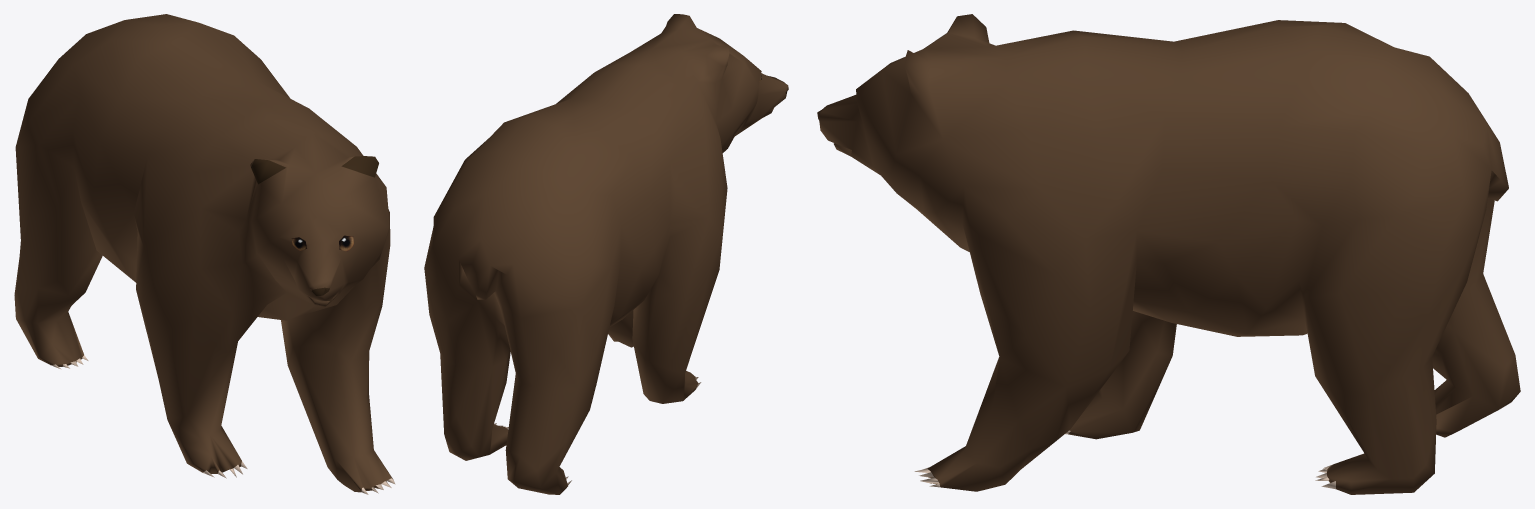
The model's file is Bear03.glb.
3 renders of one model, left to right at view 1: azimuth 30°, elevation 25°; view 2: azimuth 150°, elevation 25°; view 3: azimuth 270°, elevation 25°, orthographic. The views are drawn at different scales.
Visible parts, largest first — view 1: Bear03; view 2: Bear03; view 3: Bear03.
Boxes of the visible parts, x1=… form: Bear03: x1=14, y1=14, x2=395, y2=494; Bear03: x1=424, y1=14, x2=788, y2=494; Bear03: x1=817, y1=14, x2=1520, y2=494.
Size of what is drawn, in the model's own units: 0.8298 by 1.4 by 2.1.
Materials: 1 (1 with a texture image).
